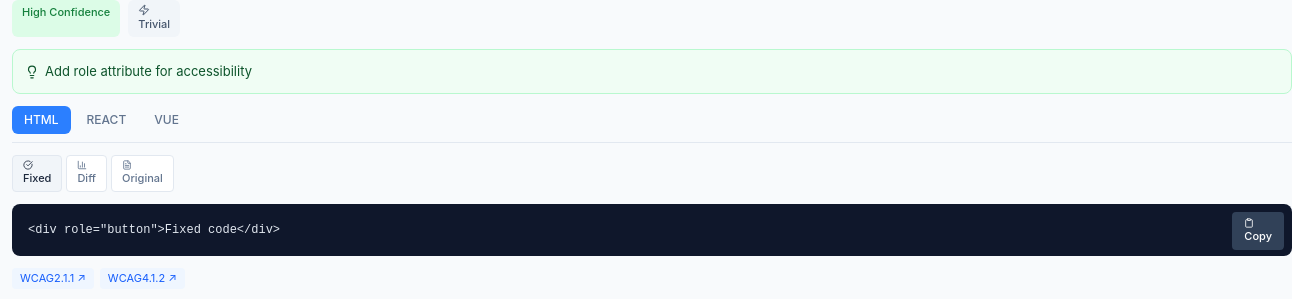
Scenario: findings/FixCodePreview › shows copied state after copying
Click the button "Copy": (1258, 231) 1232,212 -> 1284,250
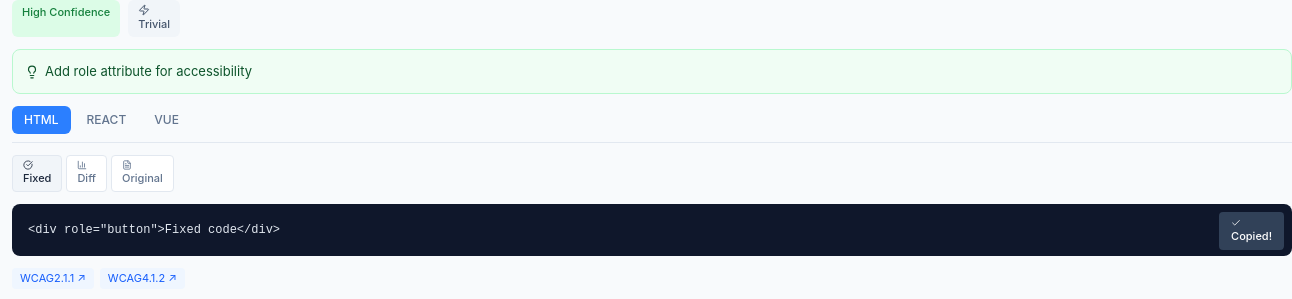
Expected: the button "Copied!" is shown, 1219,212 -> 1284,250
